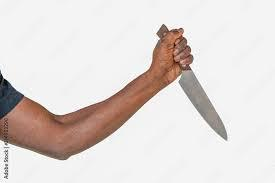Knife: (155, 23, 227, 141)
